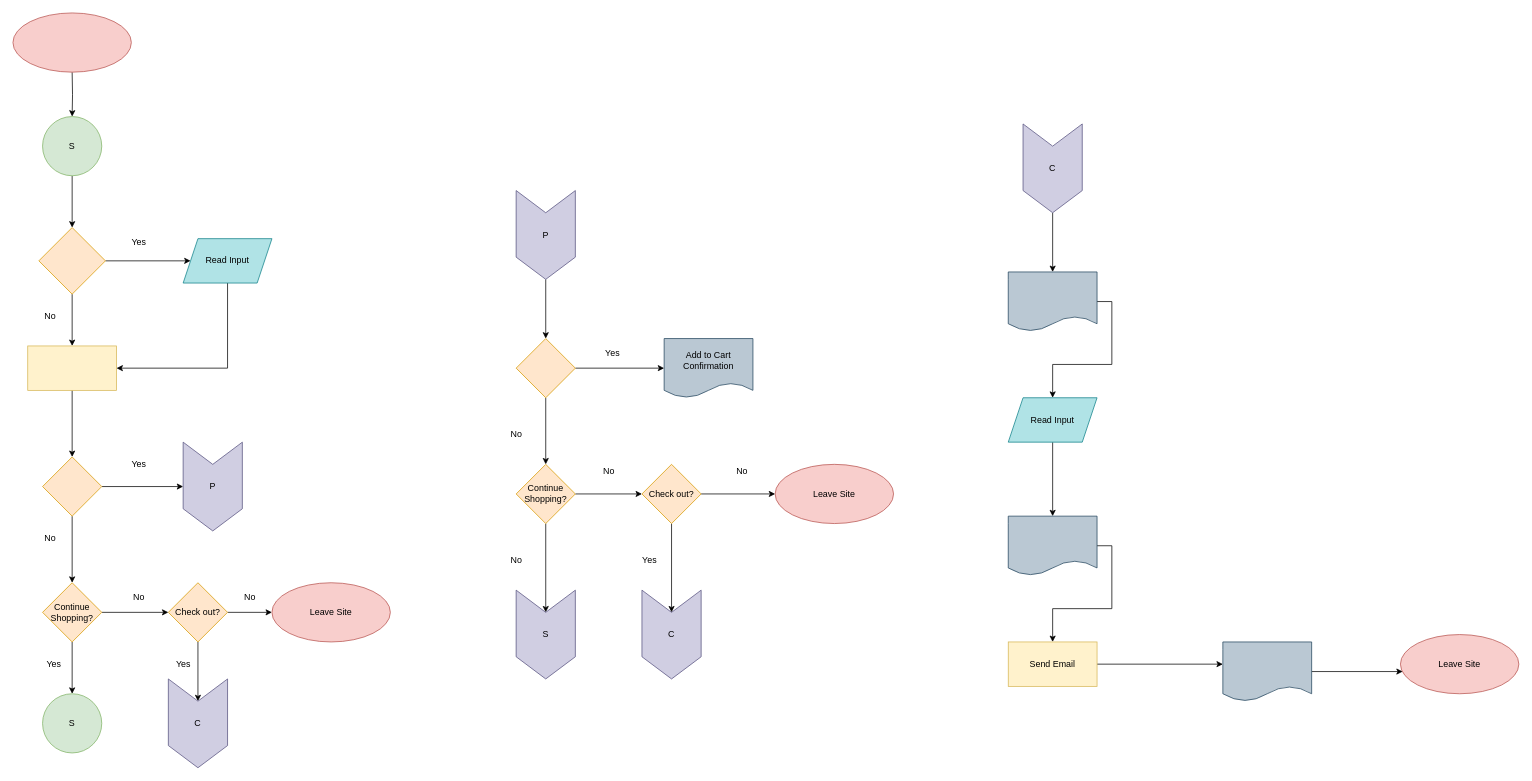
This 1532x781 diagram has some shape labels left out. Each missing label, with the centre of its shape:
"Add Product to Cart?" belongs at [545,368].
"Confirmation Screen" belongs at [1267,671].
"Enter site" belongs at [71,42].
"Looking Over Products" belongs at [72,367].
"Order Confirmation" belongs at [1052,545].
"Payment Screen" belongs at [1052,301].
"Search for a product?" belongs at [71,260].
"View a Product?" belongs at [72,486].
